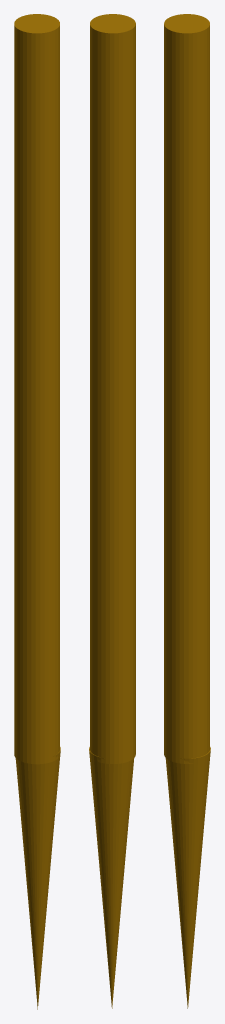
The model's file is Stump.fbx.
The picture shows the model from 3 angles, left to right: view 1: azimuth 30°, elevation 25°; view 2: azimuth 150°, elevation 25°; view 3: azimuth 330°, elevation 25°; orthographic projection.
Visible parts, largest first — view 1: Cylinder; view 2: Cylinder; view 3: Cylinder.
Boxes of the visible parts, box(x1,y1,x2,y2) form: Cylinder: box(14, 14, 60, 1009); Cylinder: box(89, 14, 135, 1008); Cylinder: box(164, 14, 210, 1008).
Size of the model in its own units: 4.08 by 94.49 by 4.02.
